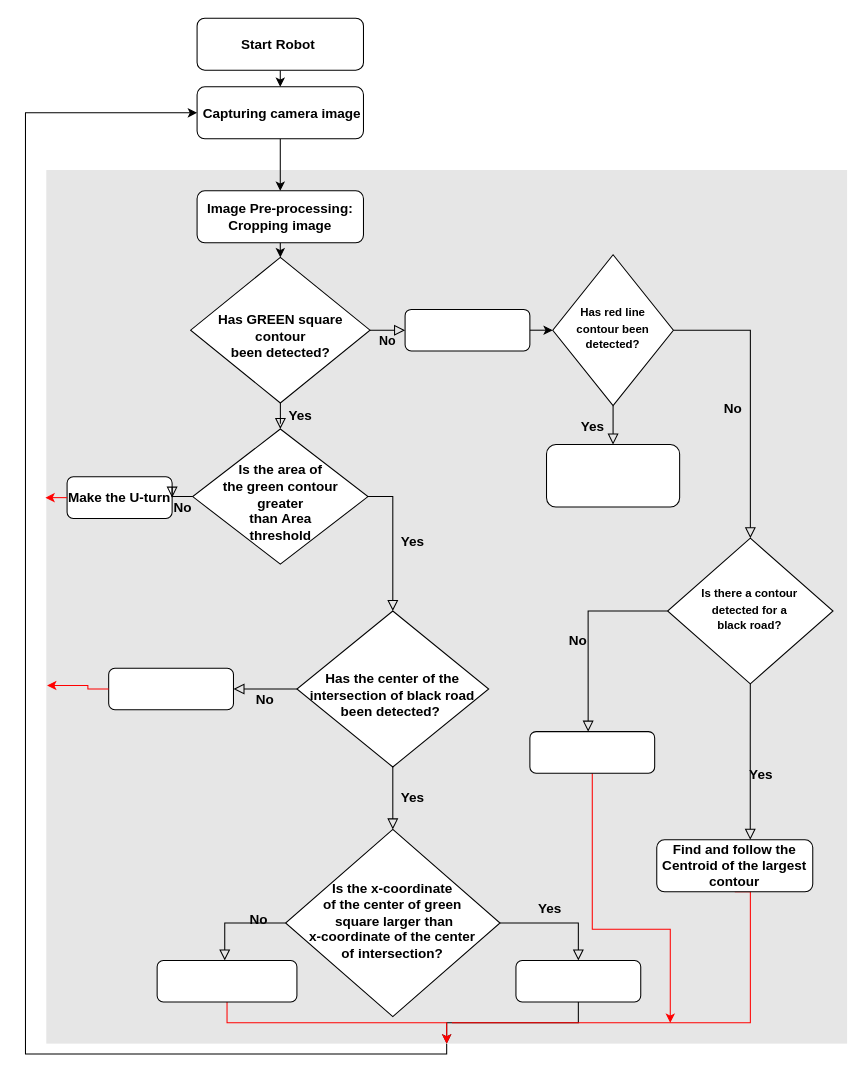
Some shapes in this 865 by 1081 pixel diagram are drawn without their labels. Each missing label, with the centre of its shape:
Check for stop condition(Red line): (x=467, y=329)
Go forward: (x=592, y=752)
Move the Robot Forward Slowly: (x=170, y=688)
Stop the robot: (x=612, y=475)
Turn left: (x=226, y=980)
Turn right: (x=578, y=980)
